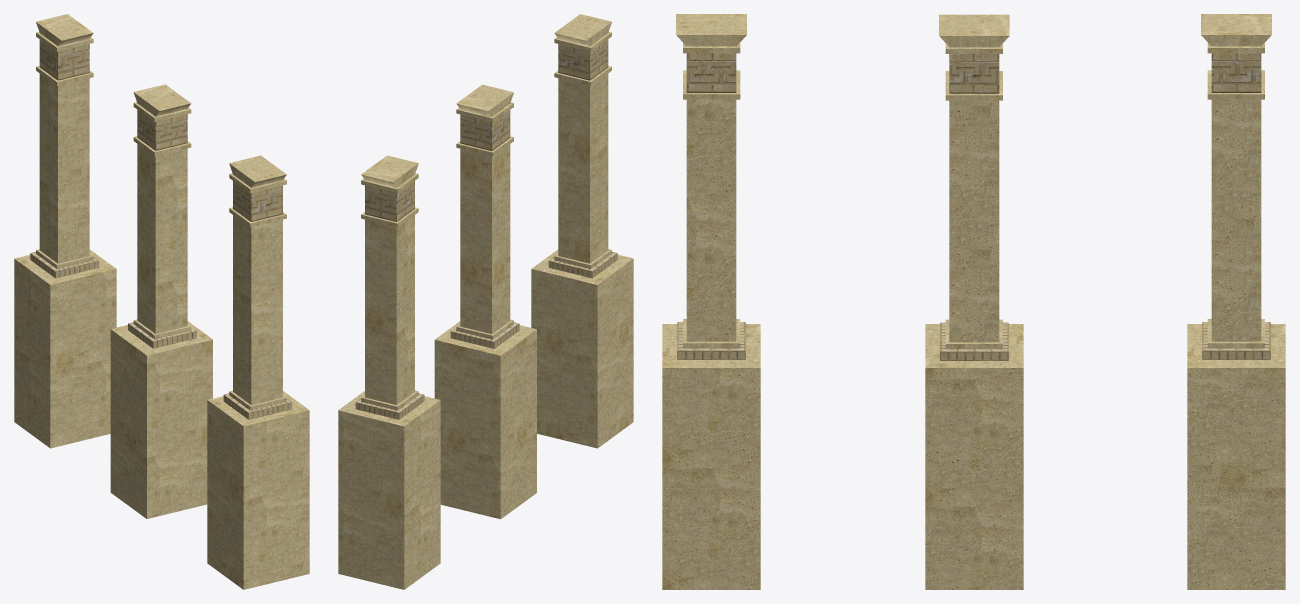
Rendered from bridge_structure_balcony_support_pillar_sm.dae.
The picture shows the model from 3 angles, left to right: view 1: azimuth 30°, elevation 25°; view 2: azimuth 150°, elevation 25°; view 3: azimuth 270°, elevation 25°; orthographic projection. The views are drawn at different scales.
Parts seen in each view (by area): view 1: bridge_structure_balcony_support_pillar_sm; view 2: bridge_structure_balcony_support_pillar_sm; view 3: bridge_structure_balcony_support_pillar_sm.
Part boxes in pixels (x1,y1,x2,y2): bridge_structure_balcony_support_pillar_sm: [14, 14, 309, 589]; bridge_structure_balcony_support_pillar_sm: [338, 14, 633, 589]; bridge_structure_balcony_support_pillar_sm: [662, 14, 1285, 589].
Size of the model in its own units: 3.64 by 21.89 by 21.04.
Materials: 4 (4 with a texture image).
